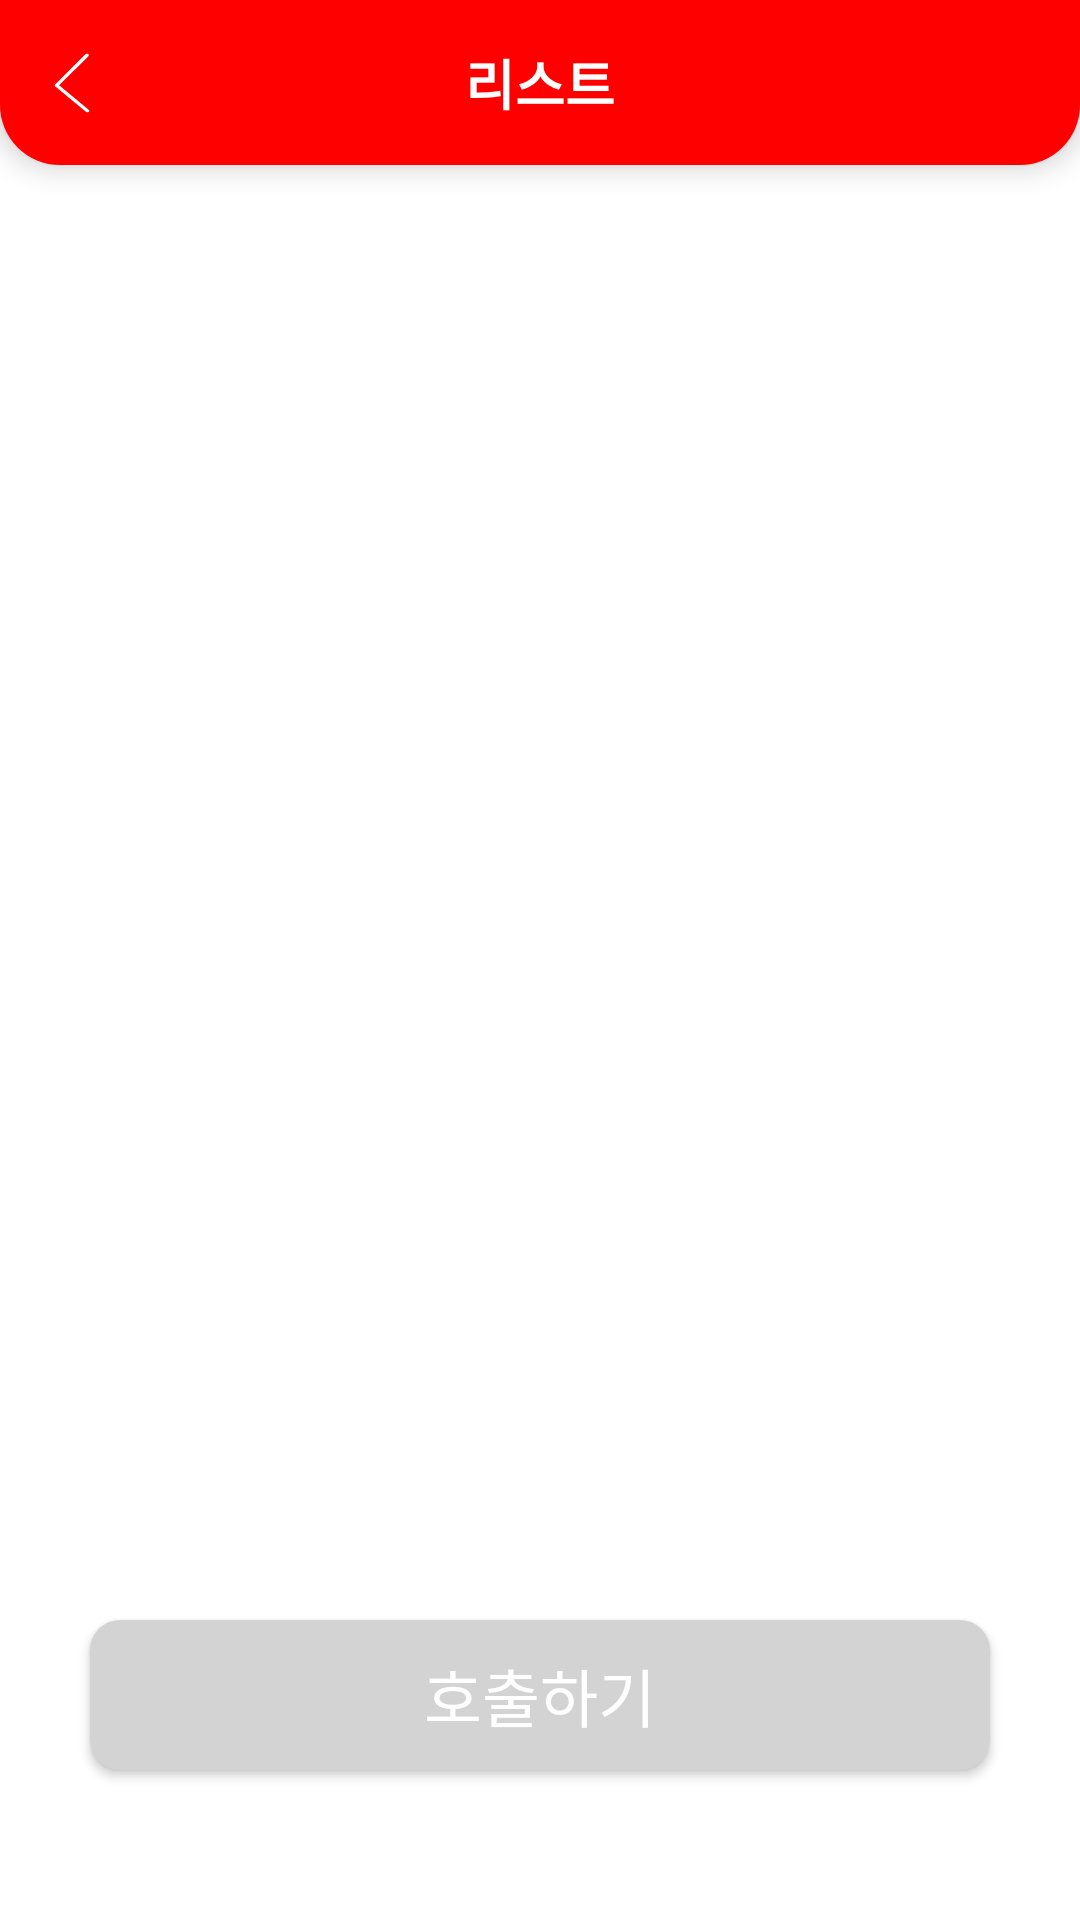

Point at icon controls on the screen. Image size 1080*1920, points as point (x, y).
back: point (72, 83)
